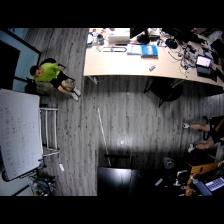normal: (28, 62, 82, 103), (181, 113, 224, 153)
